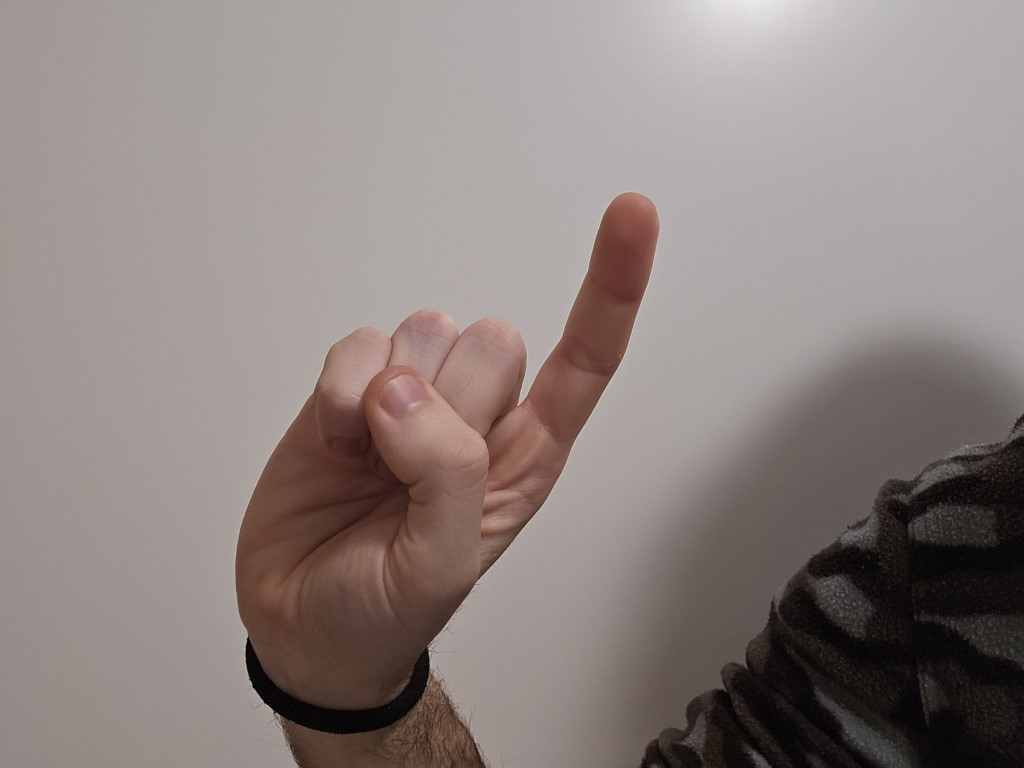z: (190, 168, 699, 669)
